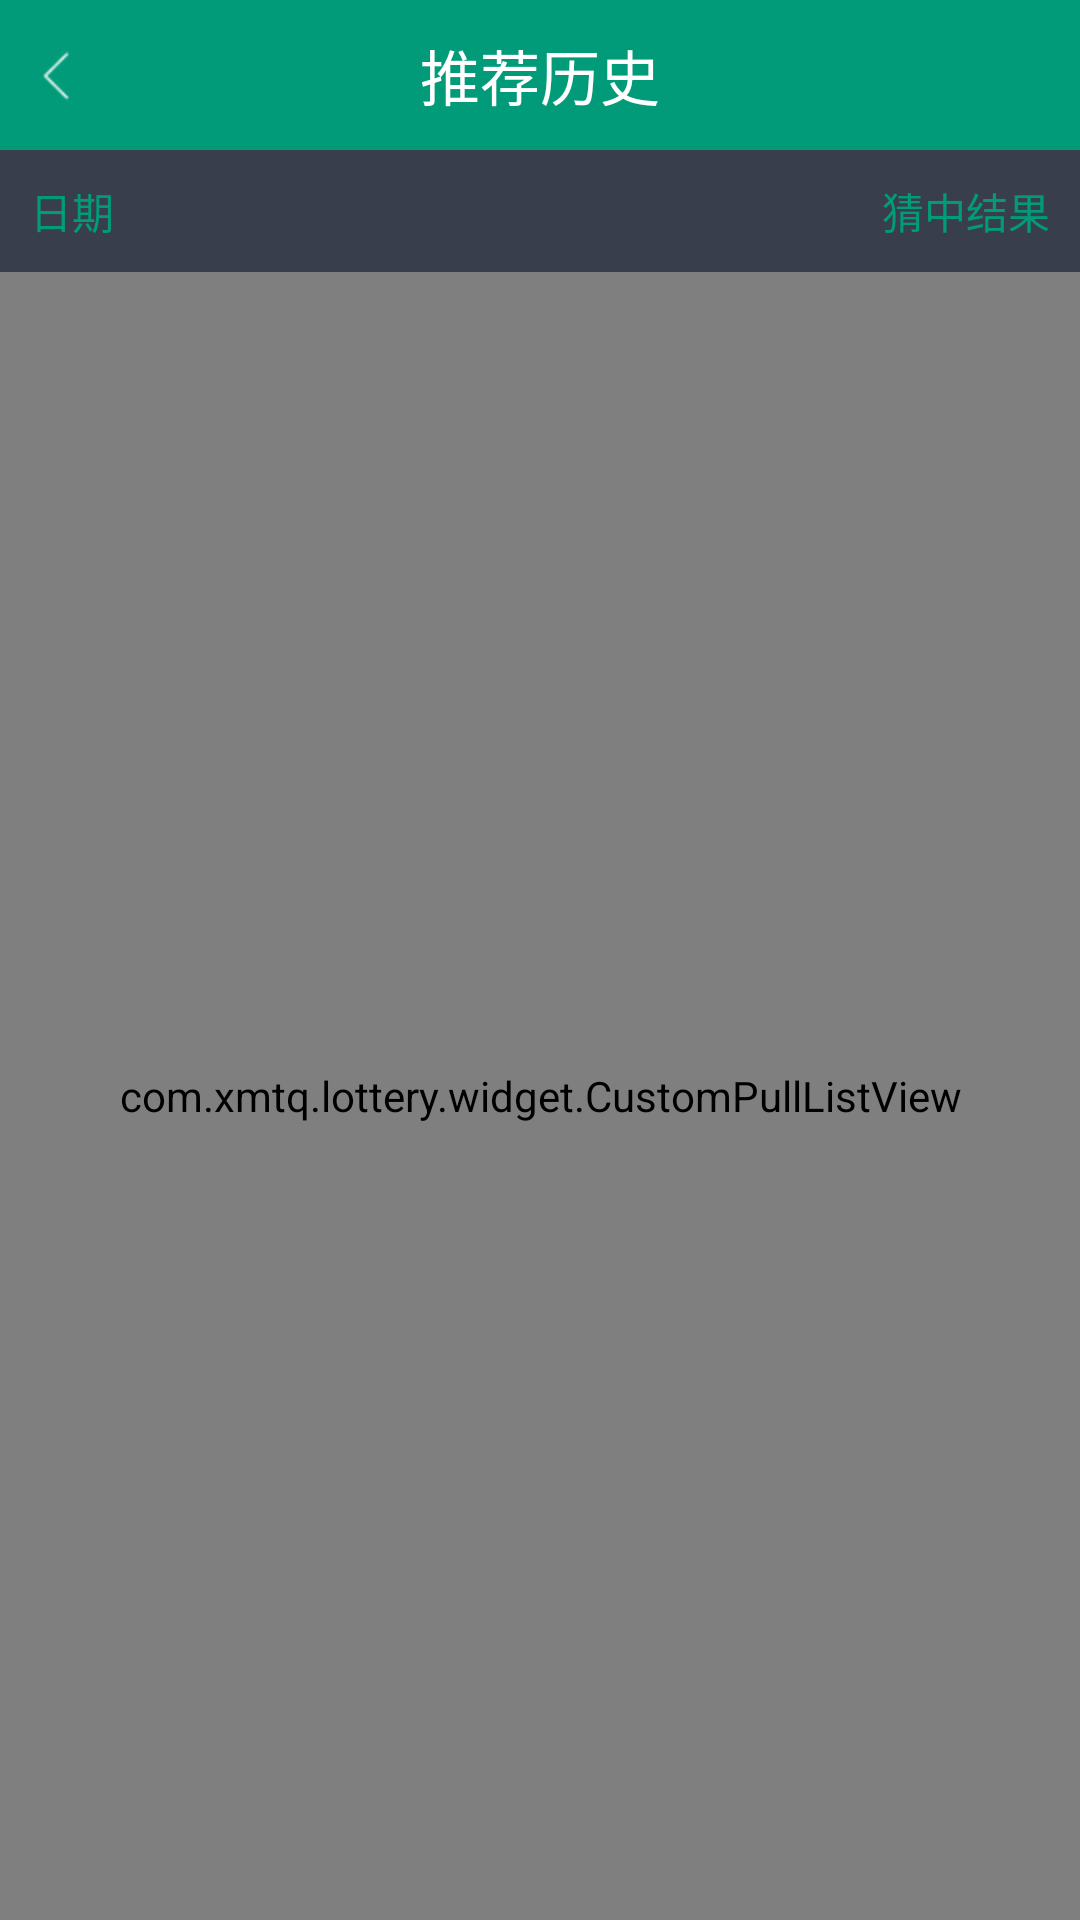

Named icons in this screenshot (1080*1920) and their bounding boxes, (x1, y1, x2, y2):
back: (43, 52, 69, 100)
